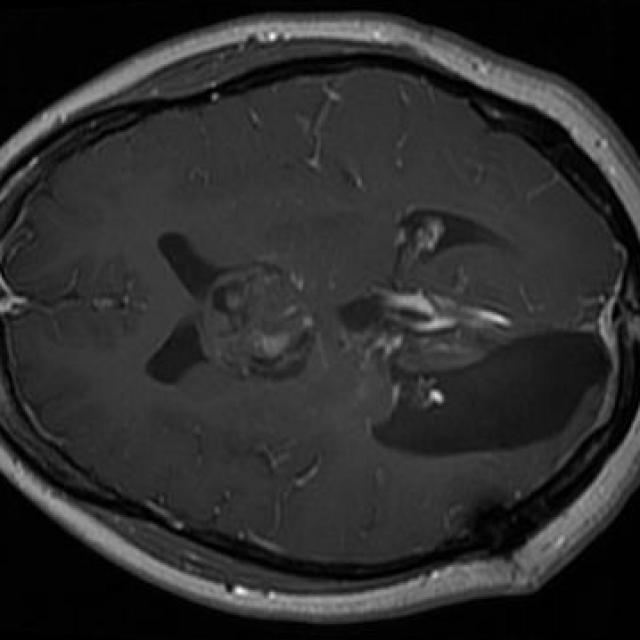glioma: (339, 209, 613, 456)
